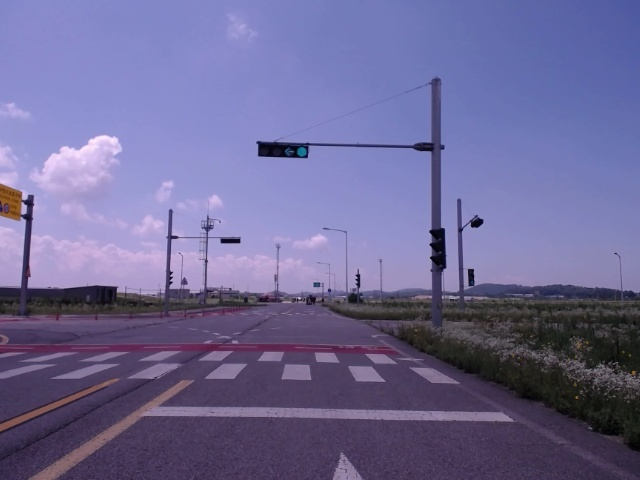all_green_4: (257, 141, 311, 157)
